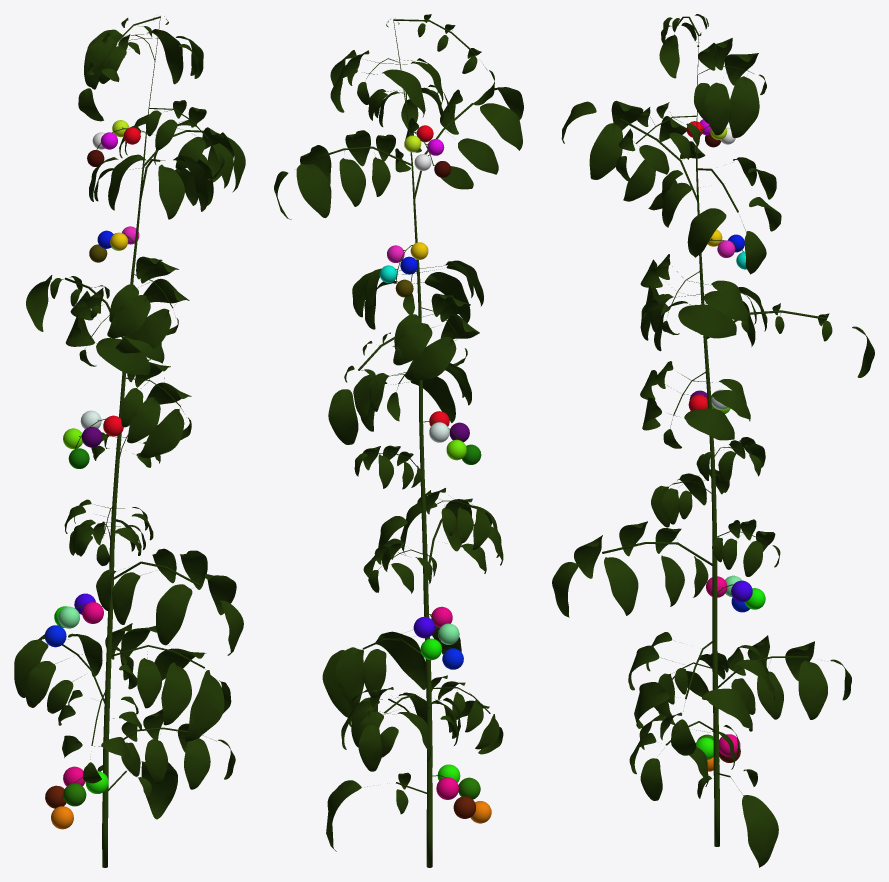
File: 05022024_TomatoesFix 1.fbx
3 renders of one model, left to right at view 1: azimuth 30°, elevation 25°; view 2: azimuth 150°, elevation 25°; view 3: azimuth 270°, elevation 25°, orthographic.
Parts seen in each view (by area): view 1: outp_3d_7540; view 2: outp_3d_7540; view 3: outp_3d_7540.
Part boxes in pixels (bbox=[...]): outp_3d_7540: bbox=[14, 16, 245, 867]; outp_3d_7540: bbox=[274, 14, 523, 867]; outp_3d_7540: bbox=[552, 14, 874, 867].
Size of the model in its own units: 49.09 by 198 by 69.27.
